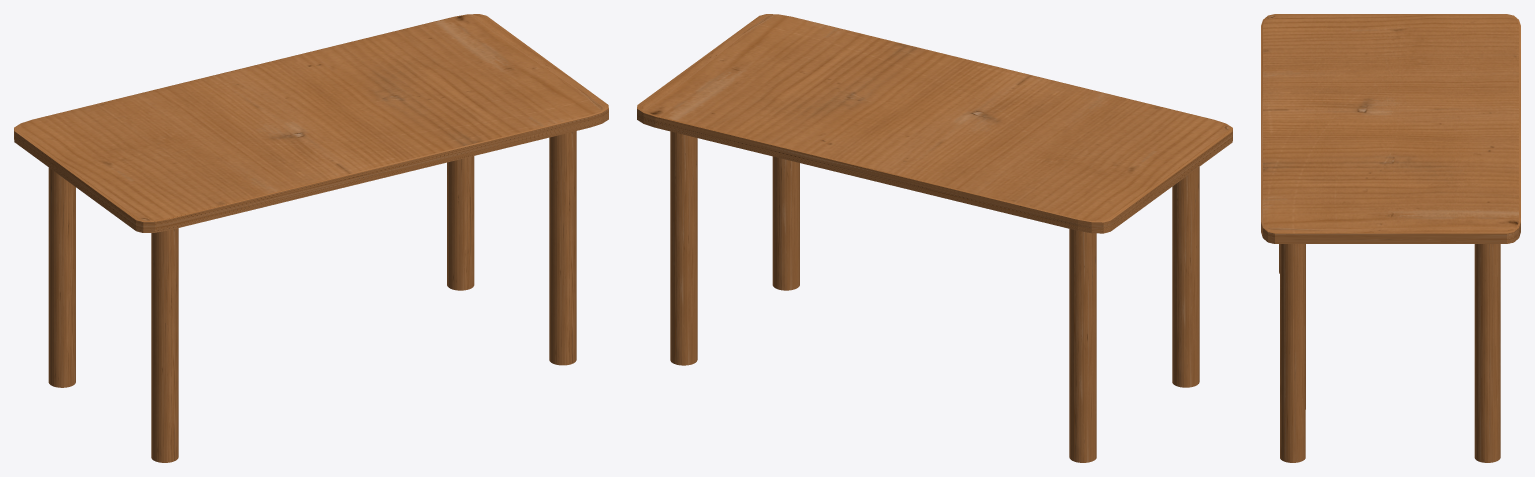
Rendered from usg_table.glb.
3 views of the same model, side by side, from view 1: azimuth 30°, elevation 25°; view 2: azimuth 150°, elevation 25°; view 3: azimuth 270°, elevation 25° (orthographic). The views are drawn at different scales.
Parts seen in each view (by area): view 1: Cube.001, Cylinder, Cylinder.003, Cylinder.001, Cylinder.002; view 2: Cube.001, Cylinder.001, Cylinder.002, Cylinder, Cylinder.003; view 3: Cube.001, Cylinder.002, Cylinder.003.
Boxes of the visible parts, x1,y1,x2,y2 form: Cube.001: (14,14,608,232); Cylinder: (151,228,178,462); Cylinder.003: (549,131,576,365); Cylinder.001: (48,167,75,387); Cylinder.002: (447,156,474,290); Cube.001: (637,14,1232,233); Cylinder.001: (1069,229,1096,462); Cylinder.002: (670,131,697,365); Cylinder: (1172,167,1199,387); Cylinder.003: (772,156,799,290); Cube.001: (1261,14,1520,243); Cylinder.002: (1474,244,1500,462); Cylinder.003: (1280,244,1305,462).
Size of the model in its own units: 4 by 2.05 by 2.
Materials: 1 (1 with a texture image).
